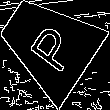P_NW: (18, 14, 77, 74)
